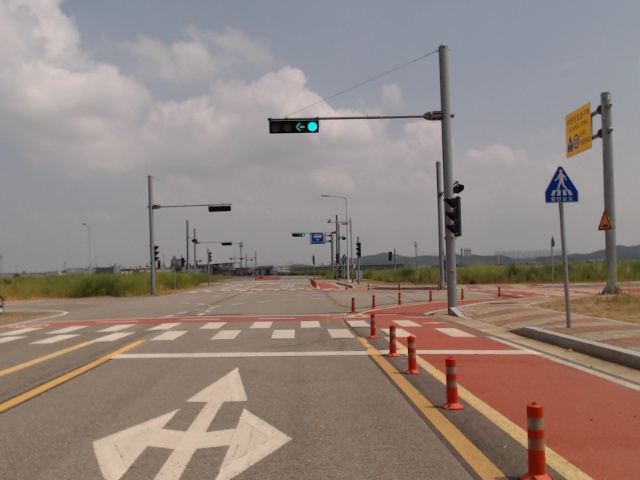all_green_4: (269, 118, 319, 134), (292, 232, 305, 237)
